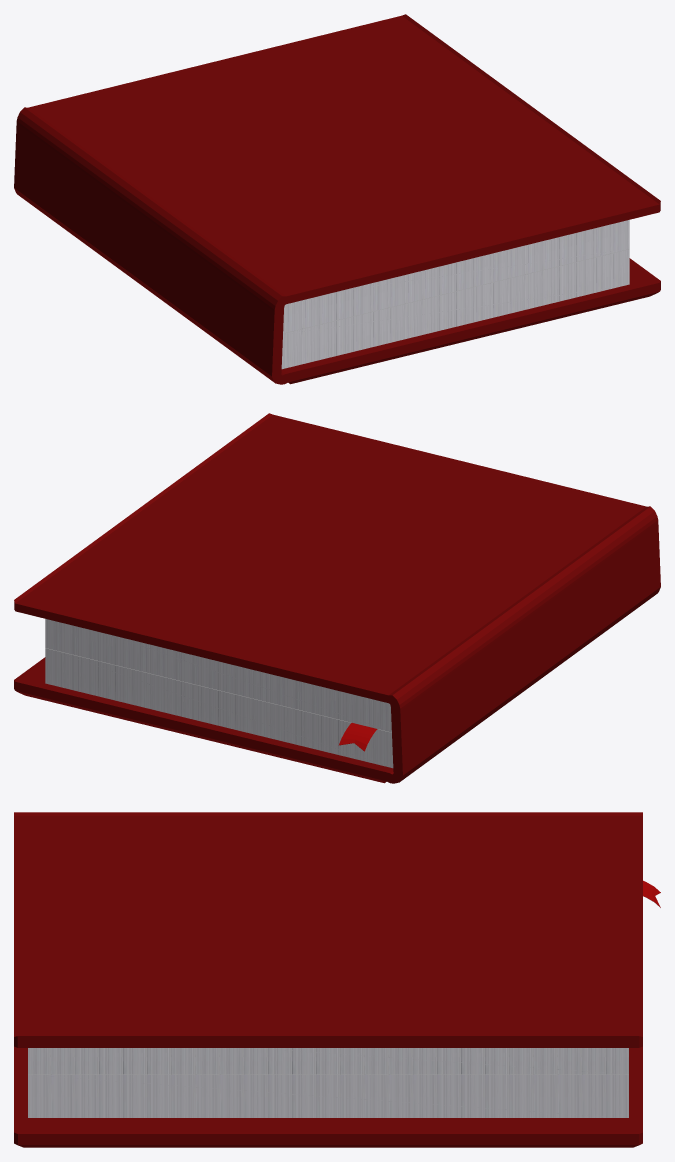
File: libro2.fbx
3 renders of one model, top to bottom at view 1: azimuth 30°, elevation 25°; view 2: azimuth 150°, elevation 25°; view 3: azimuth 270°, elevation 25°, orthographic. The views are drawn at different scales.
Parts seen in each view (by area): view 1: book1:Mesh; view 2: book1:Mesh; view 3: book1:Mesh.
Boxes of the visible parts, x1=… form: book1:Mesh: x1=14, y1=14, x2=660, y2=384; book1:Mesh: x1=14, y1=413, x2=660, y2=783; book1:Mesh: x1=14, y1=812, x2=660, y2=1147.
Bounding box in the file's own units: 1.75 × 0.4091 × 2.06.
4 materials, 1 textured.
